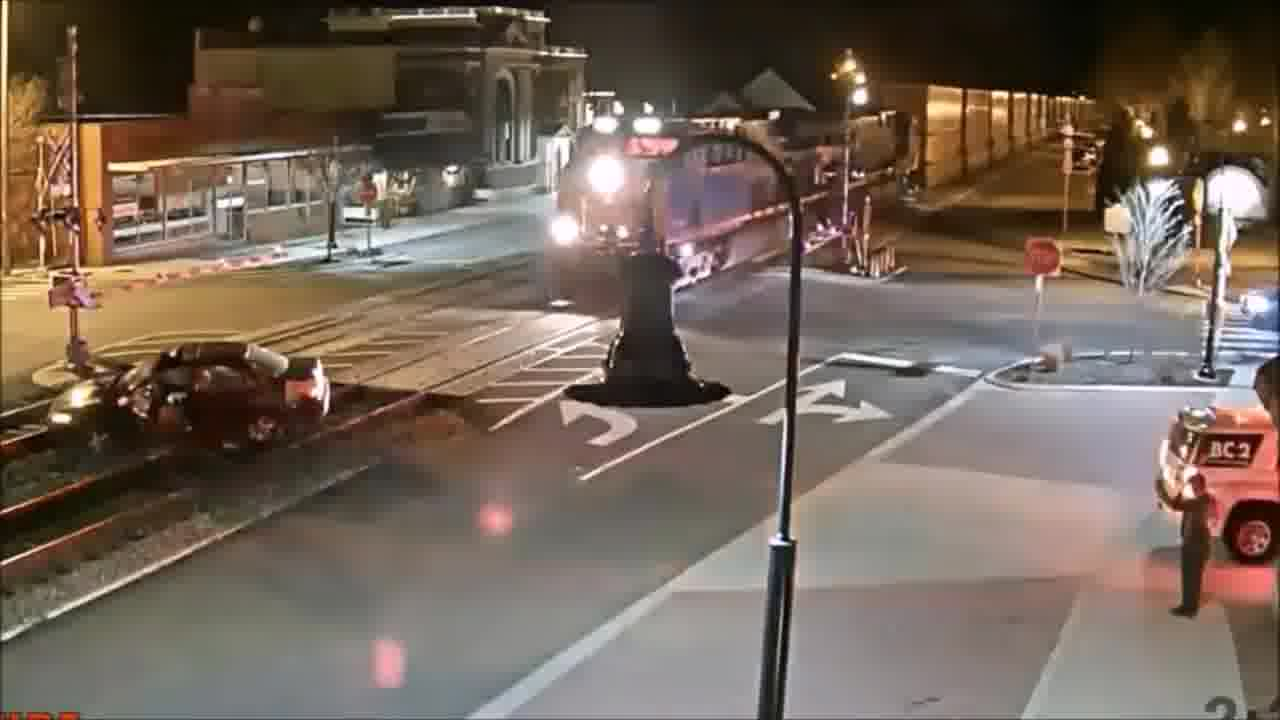crossing railway track: (37, 341, 355, 471)
